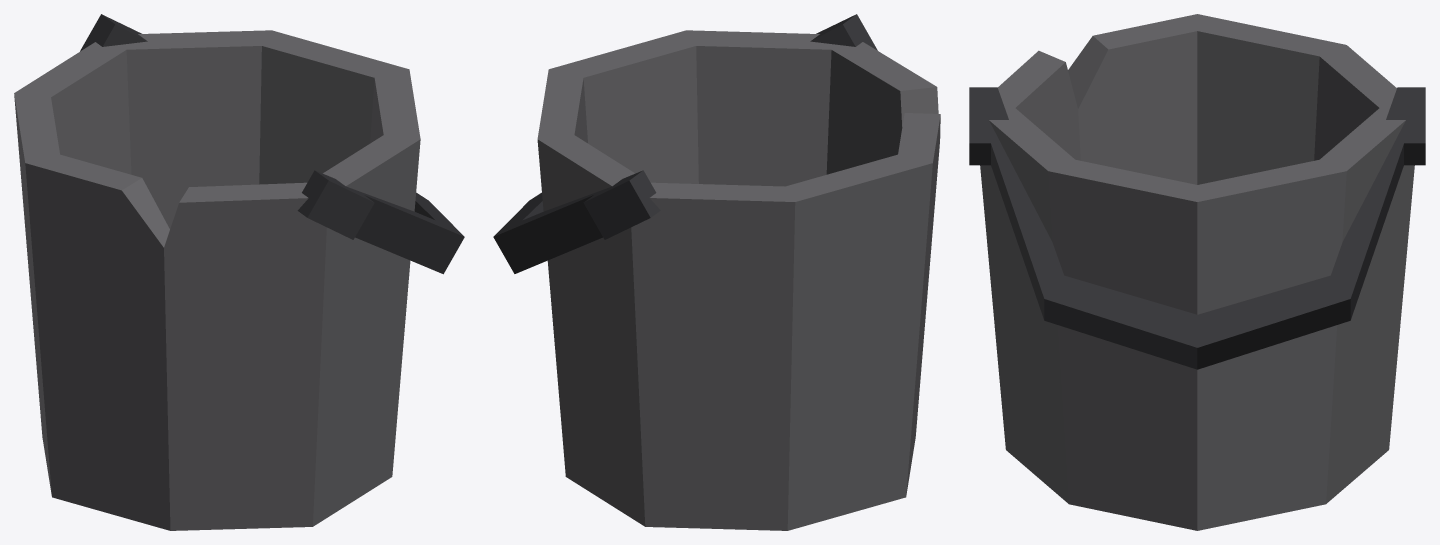
File: SM_Prop_Pot_01.glb
3 views of the same model, side by side, from view 1: azimuth 30°, elevation 25°; view 2: azimuth 150°, elevation 25°; view 3: azimuth 270°, elevation 25° (orthographic).
Visible parts, largest first — view 1: SM_Prop_Pot_01; view 2: SM_Prop_Pot_01; view 3: SM_Prop_Pot_01.
Part boxes in pixels (x1=…): SM_Prop_Pot_01: x1=14, y1=14, x2=464, y2=530; SM_Prop_Pot_01: x1=493, y1=14, x2=940, y2=530; SM_Prop_Pot_01: x1=969, y1=14, x2=1425, y2=530.
Size of the model in its own units: 0.00338 by 0.00288 by 0.0033.
1 material, 1 textured.
